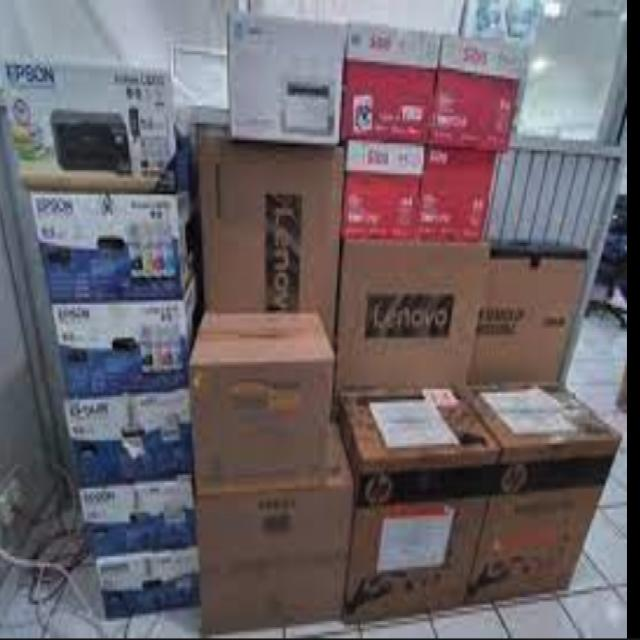Kardus: (340, 388, 620, 624), (186, 316, 355, 640), (347, 21, 490, 240), (26, 188, 198, 304), (227, 8, 343, 148), (49, 107, 131, 173)
